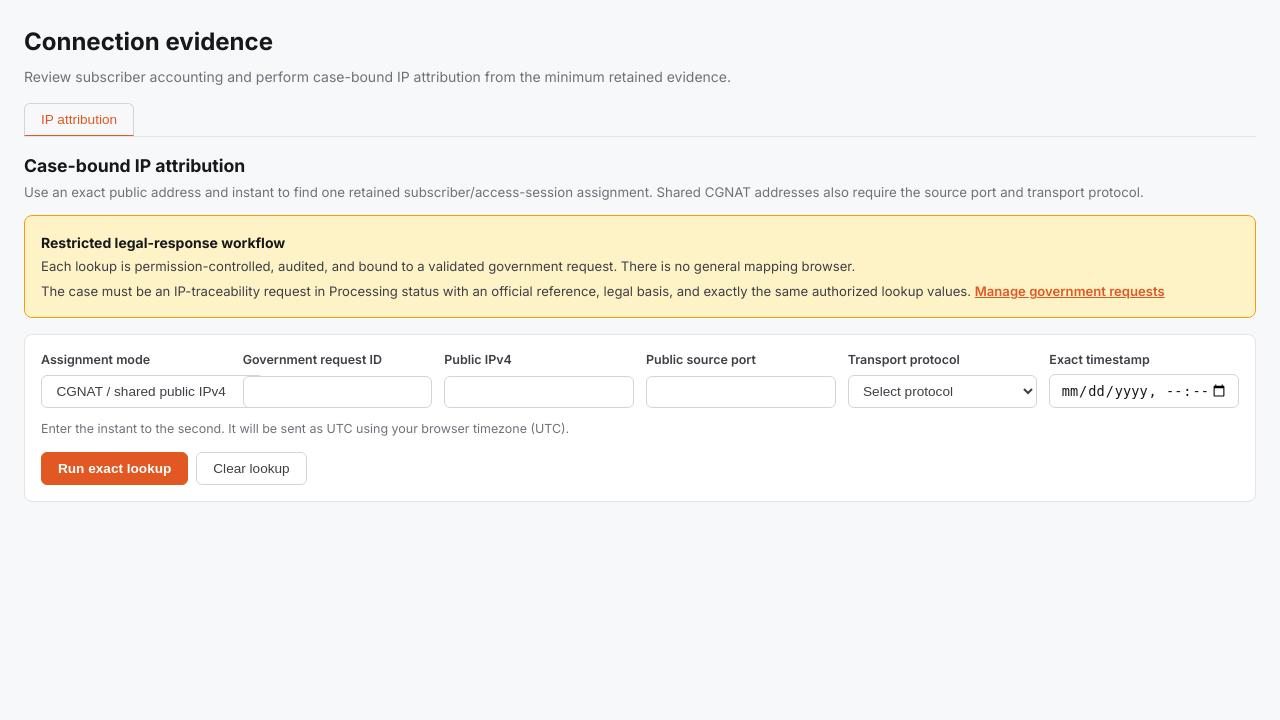
ConnectionLogList › lands an attribution-only legal responder on the restricted lookup without fetching session or readiness ledgers
Select "Direct public IPv4 assignment" in the dropdown labelled "Assignment mode": (152, 392) [41, 375, 264, 408]
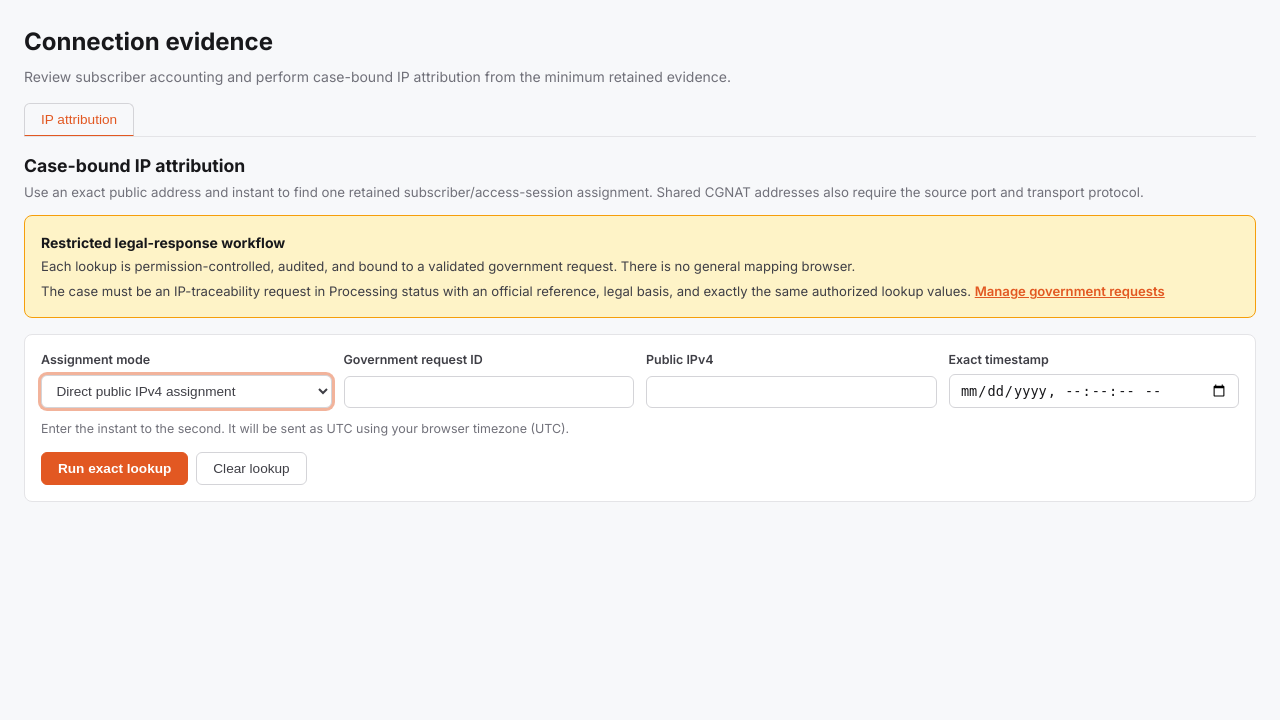
In the number field labelled "Government request ID": (489, 392) [344, 376, 634, 408], type "74"
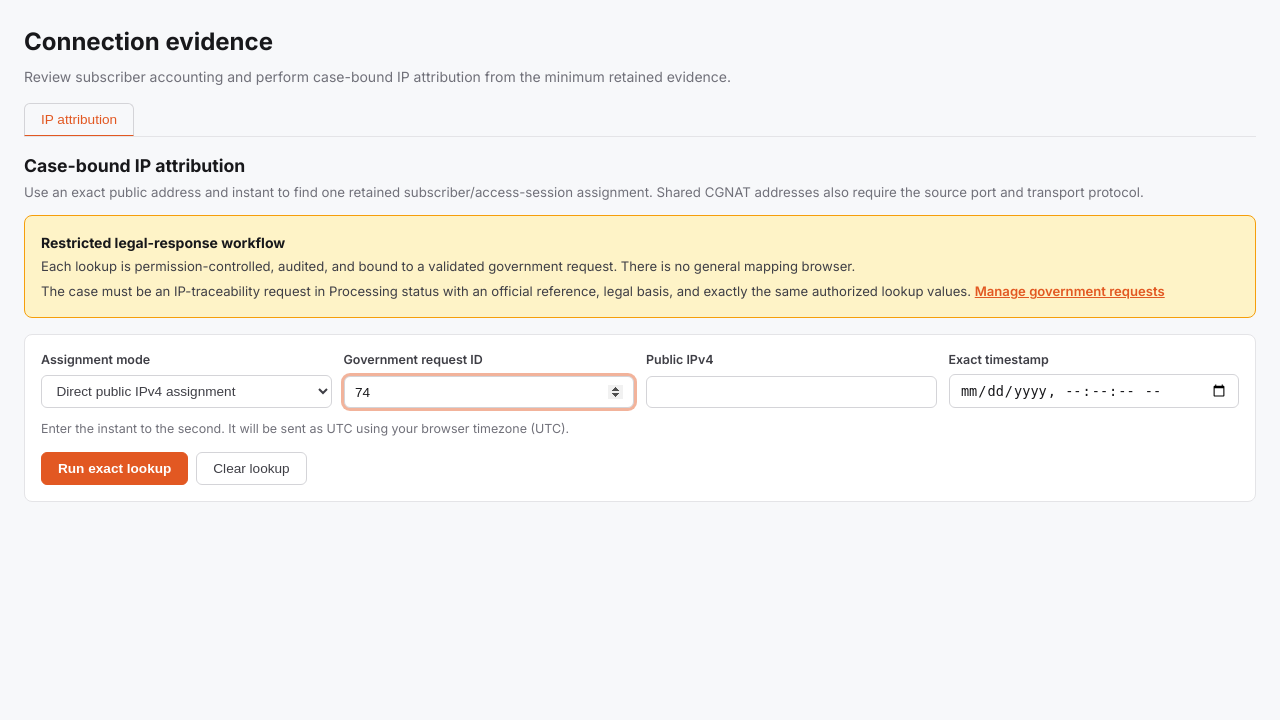
In the field labelled "Public IPv4": (791, 392) [646, 376, 936, 408], type "203.0.113.9"
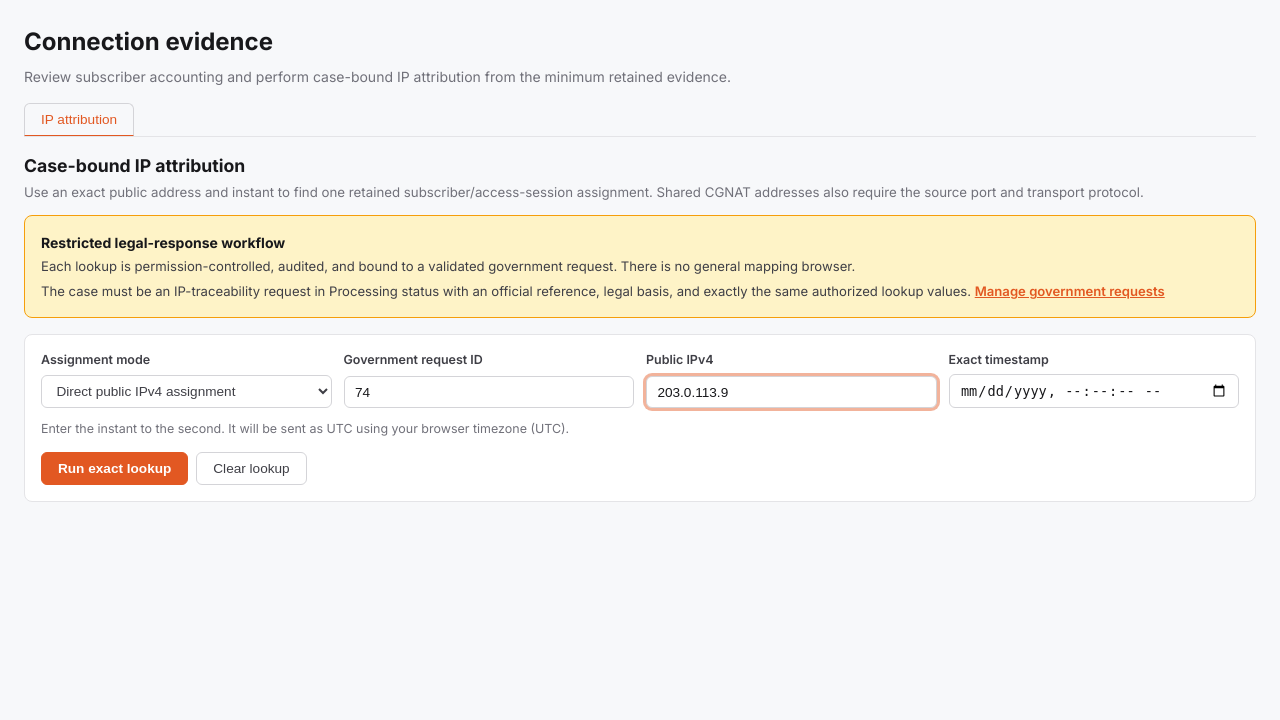
In the field labelled "Exact timestamp": (1094, 391) [948, 374, 1239, 408], type "2026-08-14T10:15:01"
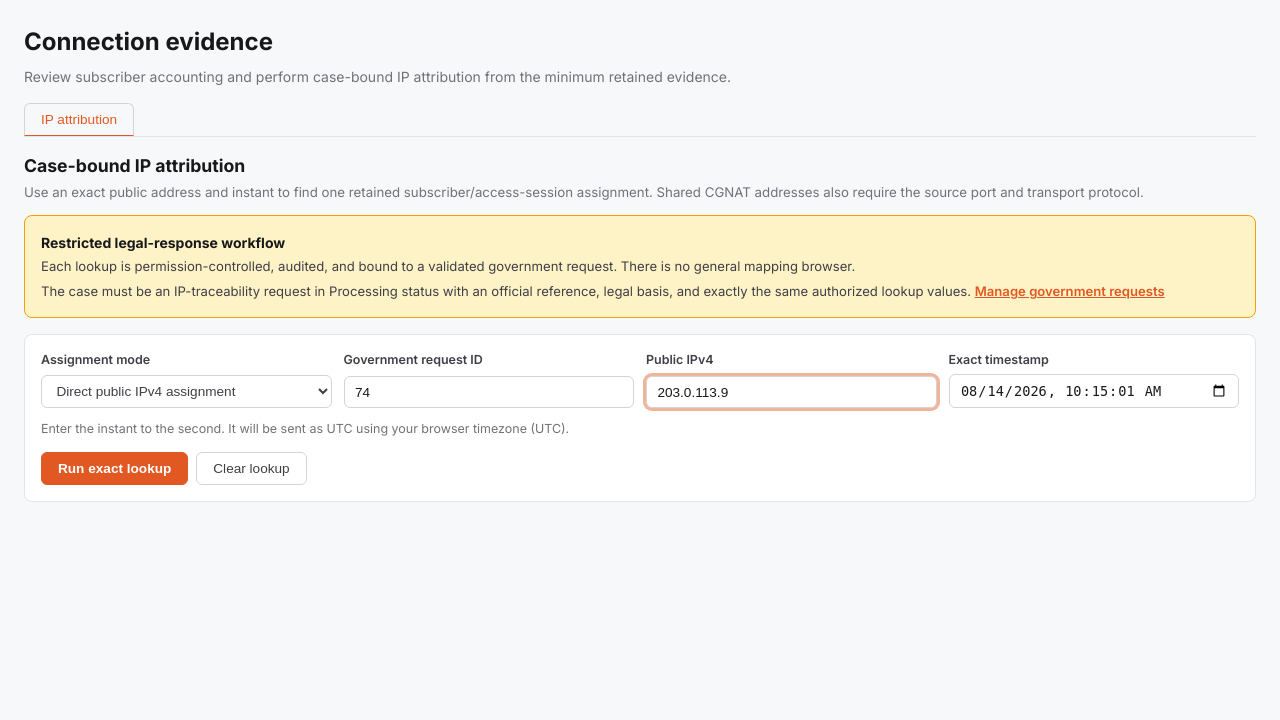
Click the button "Run exact lookup": (115, 469) [41, 452, 188, 485]
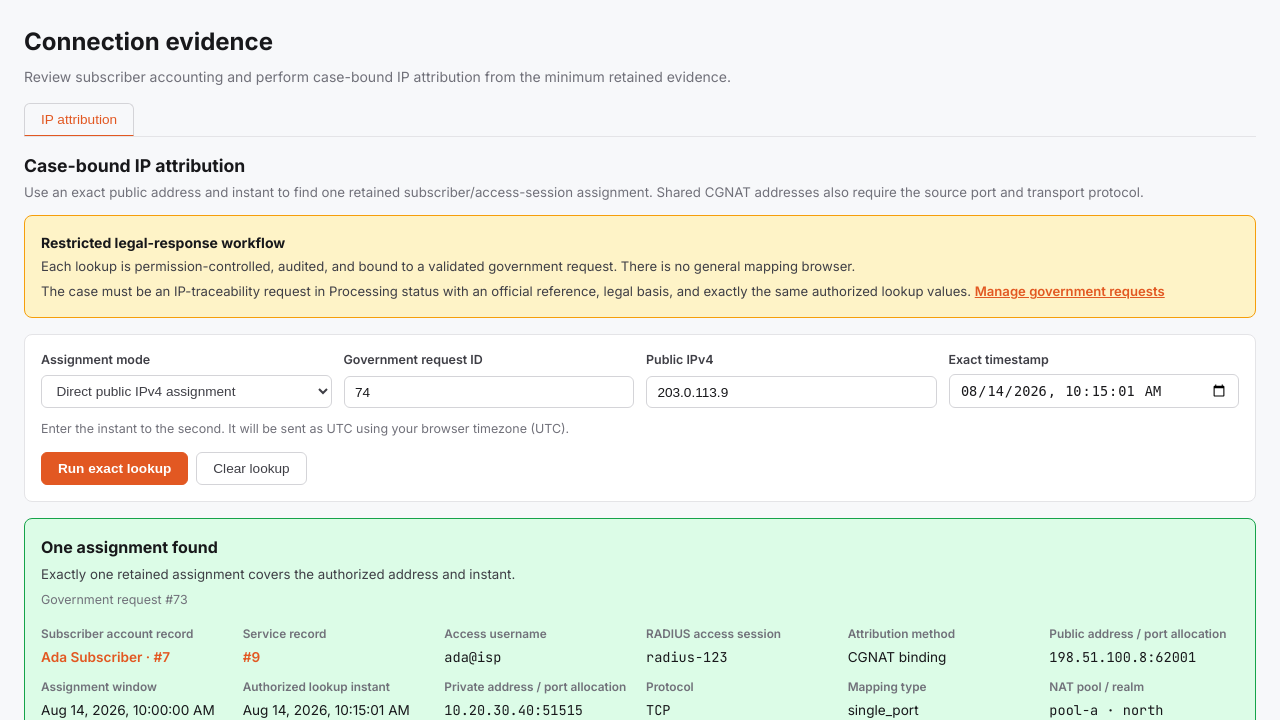
Expected: the heading "One assignment found" is shown, [41, 537, 218, 557]
